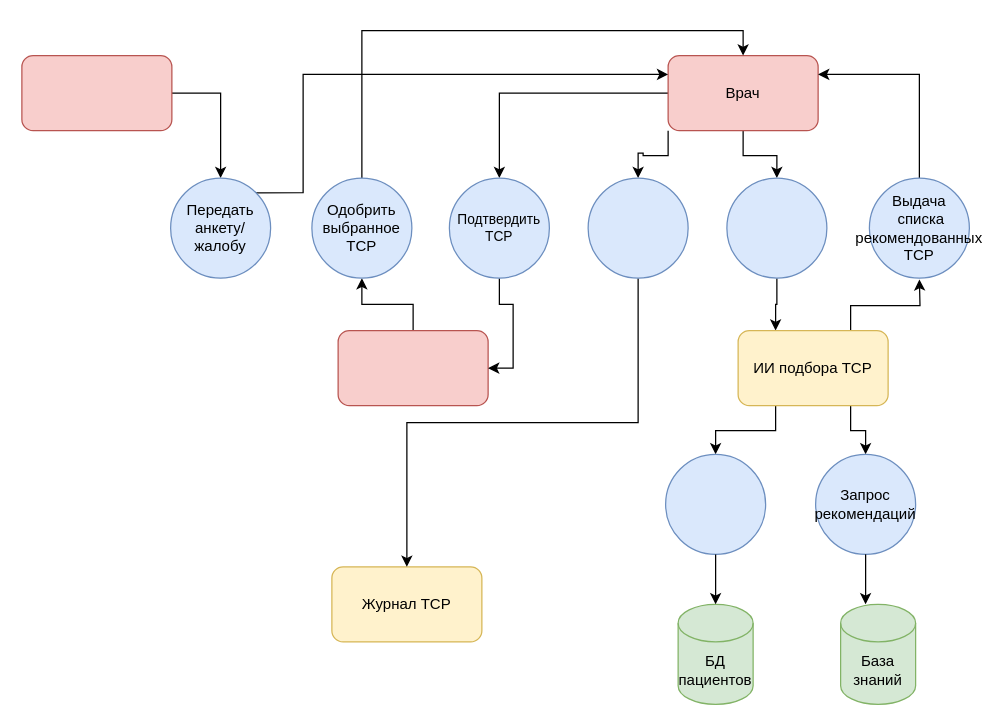
This 1004x726 diagram has some shape labels left out. The box of each missing label's shape, as (x1, y1, x2, y2) in pixels:
Ввод клинических данных пациента: (726, 177, 827, 278)
Инженер: (337, 329, 488, 406)
Пациент: (21, 54, 172, 131)
Сохранение данных пациента: (664, 453, 766, 554)
Сохранить финальное заключение по ТСР: (587, 177, 688, 278)
